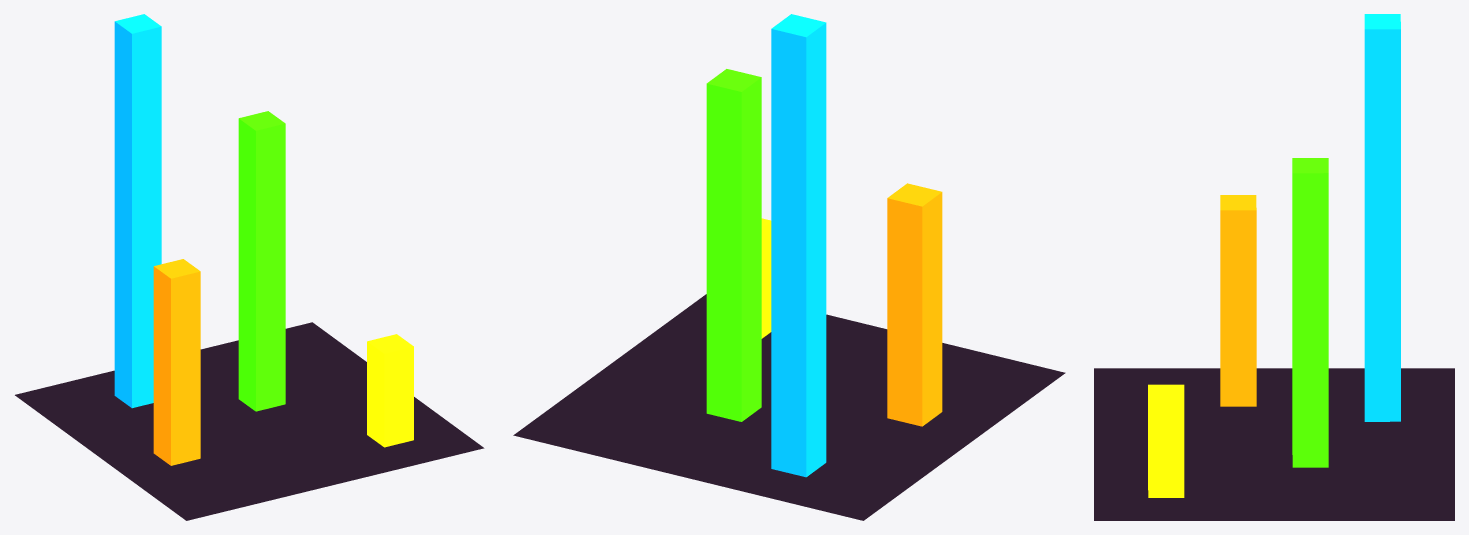
The model's file is decoration-empty-night.glb.
The picture shows the model from 3 angles, left to right: view 1: azimuth 30°, elevation 25°; view 2: azimuth 150°, elevation 25°; view 3: azimuth 270°, elevation 25°; orthographic projection. The views are drawn at different scales.
Visible parts, largest first — view 1: Building 3 Floor, Building 12, Building 11, Building 9, Building 10; view 2: Building 3 Floor, Building 12, Building 11, Building 9, Building 10; view 3: Building 3 Floor, Building 12, Building 11, Building 9, Building 10.
Part boxes in pixels (bbox=[...]): Building 3 Floor: bbox=[15, 322, 484, 520]; Building 12: bbox=[114, 14, 161, 408]; Building 11: bbox=[238, 111, 285, 411]; Building 9: bbox=[153, 259, 200, 465]; Building 10: bbox=[367, 334, 413, 447]; Building 3 Floor: bbox=[513, 294, 1065, 520]; Building 12: bbox=[771, 14, 826, 477]; Building 11: bbox=[706, 69, 761, 421]; Building 9: bbox=[887, 183, 942, 426]; Building 10: bbox=[761, 218, 771, 338]; Building 3 Floor: bbox=[1094, 368, 1454, 520]; Building 12: bbox=[1364, 14, 1400, 421]; Building 11: bbox=[1292, 158, 1328, 467]; Building 9: bbox=[1220, 195, 1256, 406]; Building 10: bbox=[1148, 384, 1184, 497].
Size of the model in its own units: 10 by 12 by 10.
